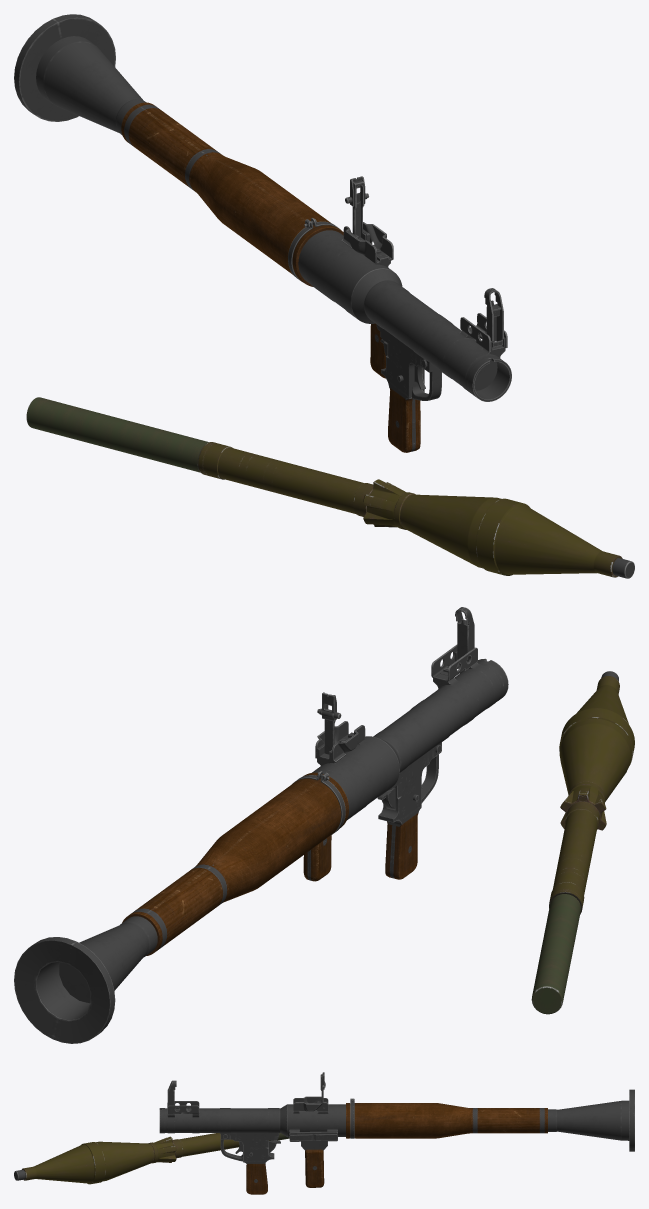
The model's file is rpg7.glb.
3 renders of one model, top to bottom at view 1: azimuth 30°, elevation 25°; view 2: azimuth 150°, elevation 25°; view 3: azimuth 270°, elevation 25°, orthographic. The views are drawn at different scales.
Parts seen in each view (by area): view 1: RPG7_RPG7_0, rocket_RPG7Rocket_0; view 2: RPG7_RPG7_0, rocket_RPG7Rocket_0; view 3: RPG7_RPG7_0, rocket_RPG7Rocket_0.
Part boxes in pixels (x1,y1,x2,y2): RPG7_RPG7_0: [14, 14, 511, 452]; rocket_RPG7Rocket_0: [26, 397, 634, 578]; RPG7_RPG7_0: [14, 607, 508, 1043]; rocket_RPG7Rocket_0: [531, 671, 634, 1014]; RPG7_RPG7_0: [159, 1080, 634, 1194]; rocket_RPG7Rocket_0: [14, 1133, 289, 1184].
Size of the model in its own units: 0.2049 by 0.1383 by 0.6258.
Materials: 2 (2 with a texture image).
